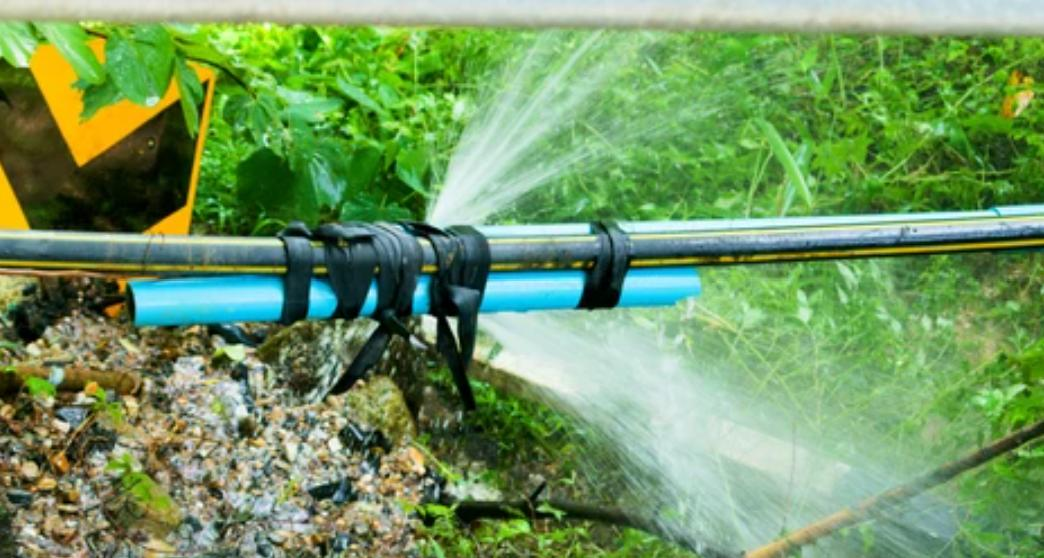pipe burst: (474, 309, 959, 558), (421, 28, 734, 230)
